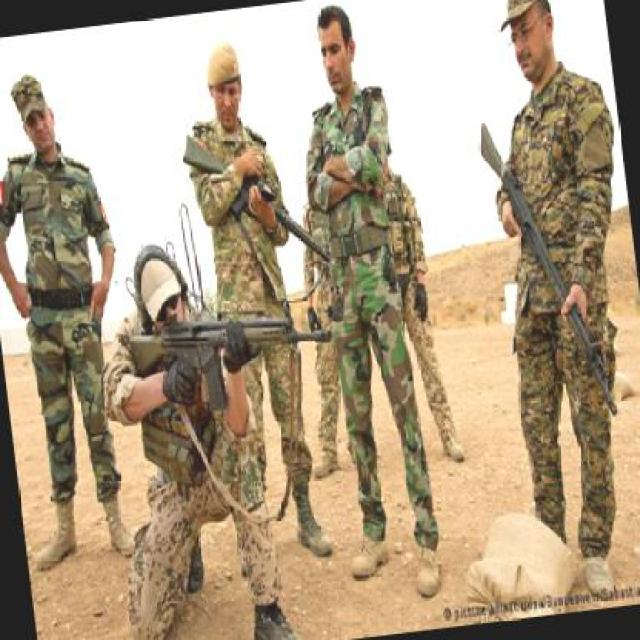MIL_Pax: (464, 0, 638, 597), (283, 0, 448, 608), (83, 227, 303, 638), (172, 30, 330, 572), (0, 63, 148, 574), (364, 122, 468, 484), (287, 182, 365, 481)
